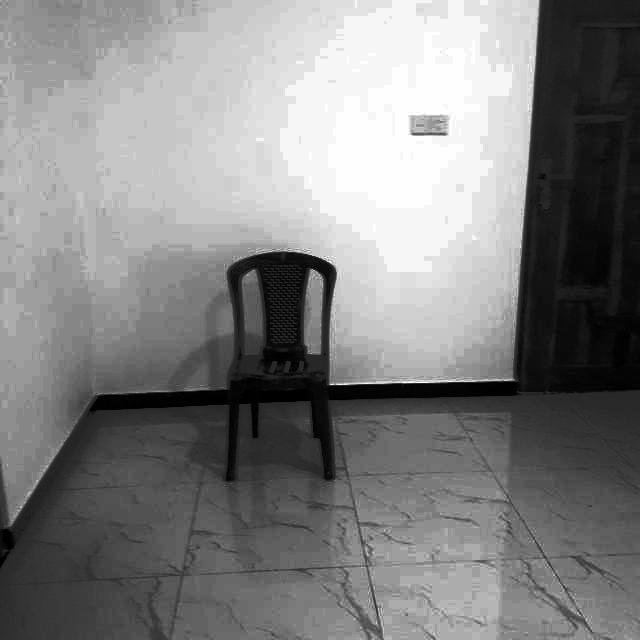not a gesture sign: (213, 132, 364, 527)
